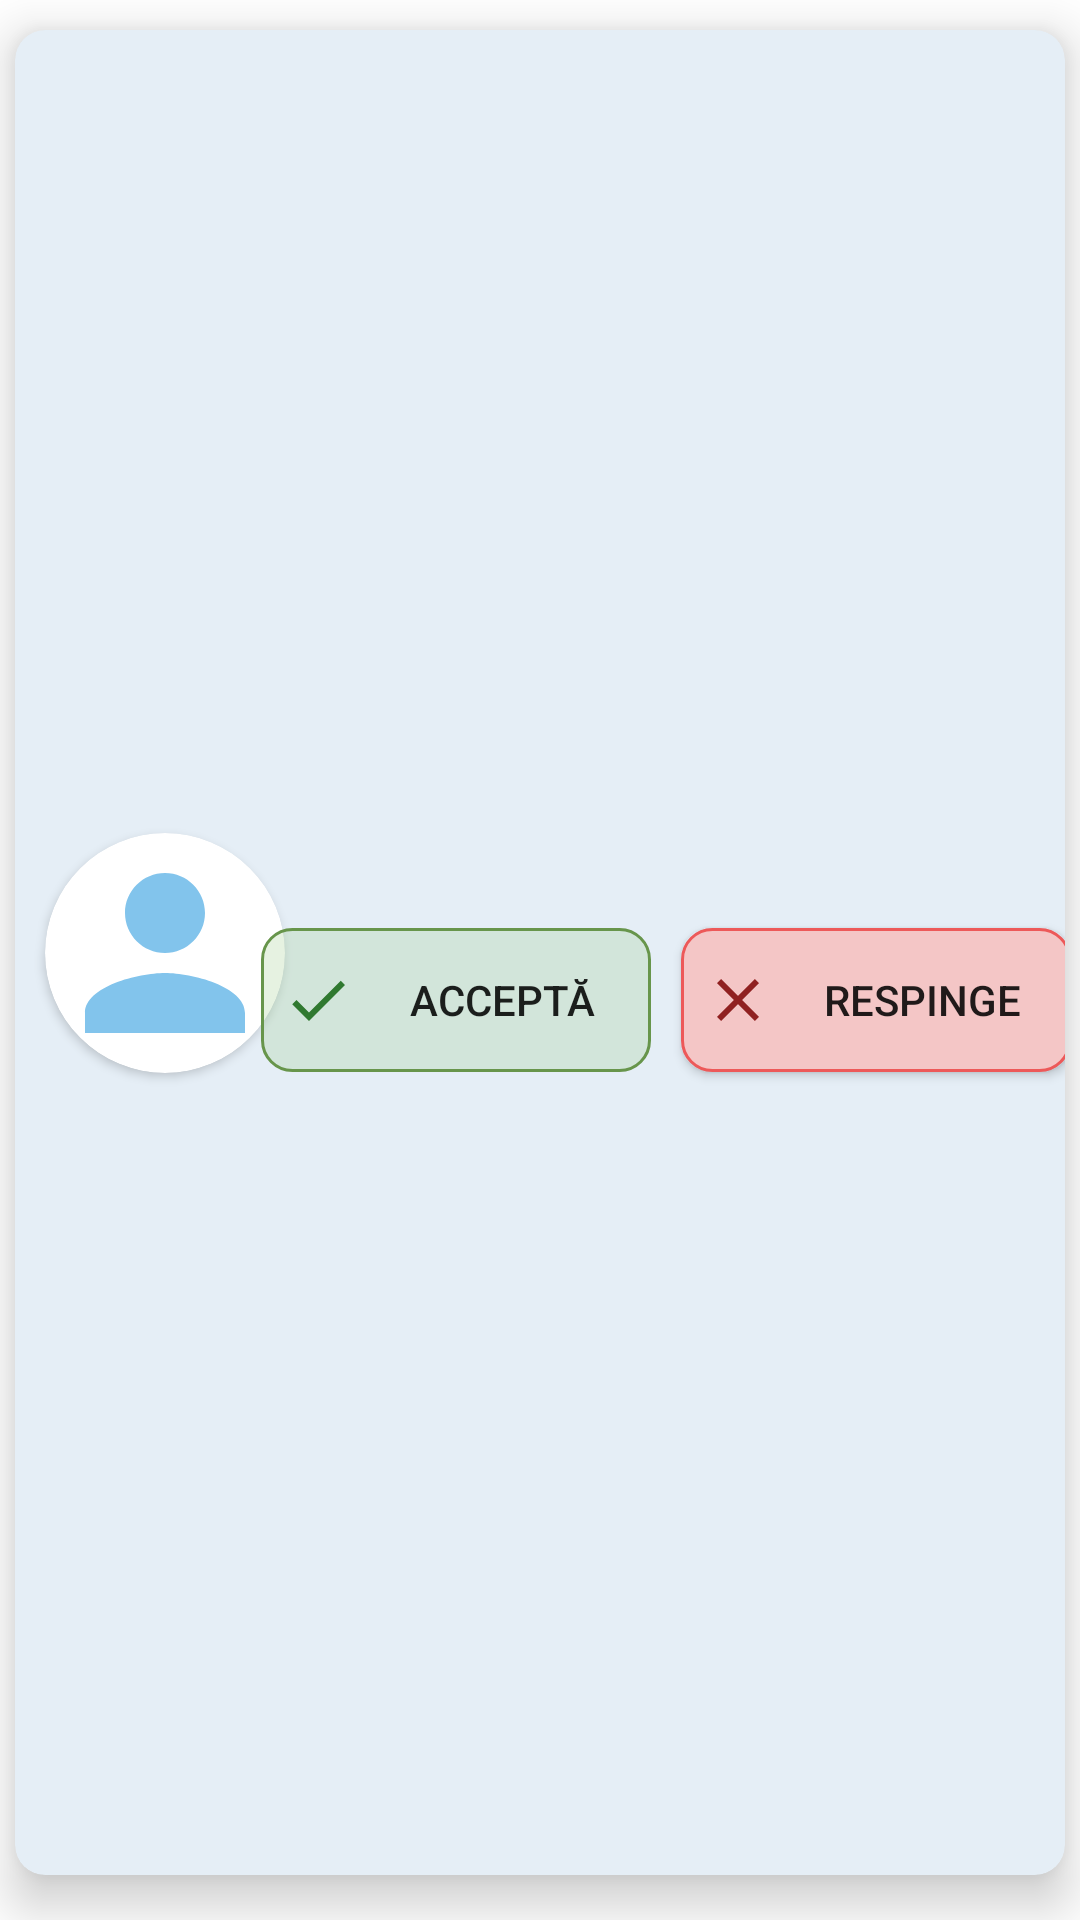

Icon bounding boxes for this 1080×1920 phone screenshot, format bbox=(x1, y1, x2, y2):
utilizator: bbox=(45, 833, 285, 1073)
